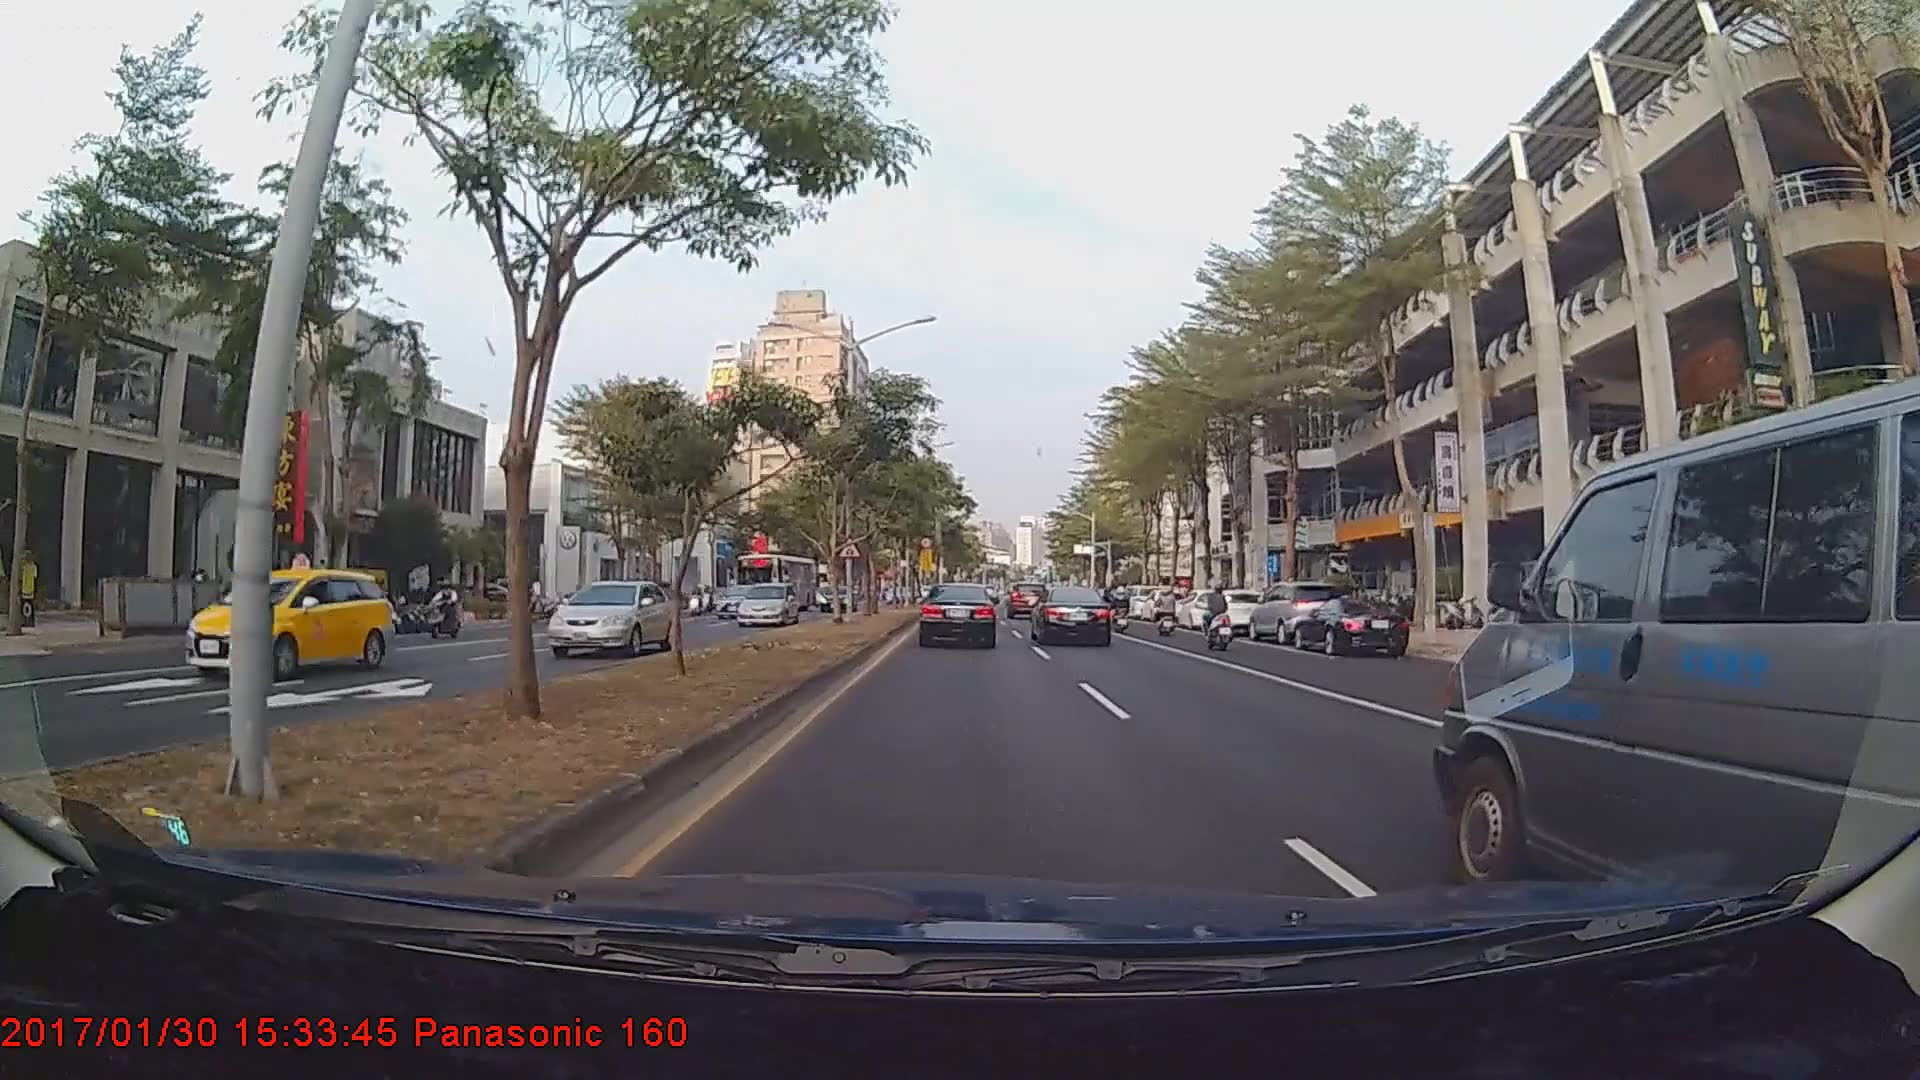rider: (1199, 584, 1239, 657), (426, 578, 468, 645), (1148, 583, 1181, 641), (1109, 585, 1132, 635)
vehicle: (1451, 407, 1911, 896), (180, 563, 393, 686), (549, 579, 677, 655), (1292, 598, 1410, 654), (1251, 582, 1350, 649), (916, 582, 999, 649), (734, 550, 818, 616), (1033, 585, 1113, 647), (1200, 587, 1265, 634), (733, 581, 800, 627), (1004, 582, 1051, 620), (711, 585, 761, 619), (814, 582, 858, 612)
